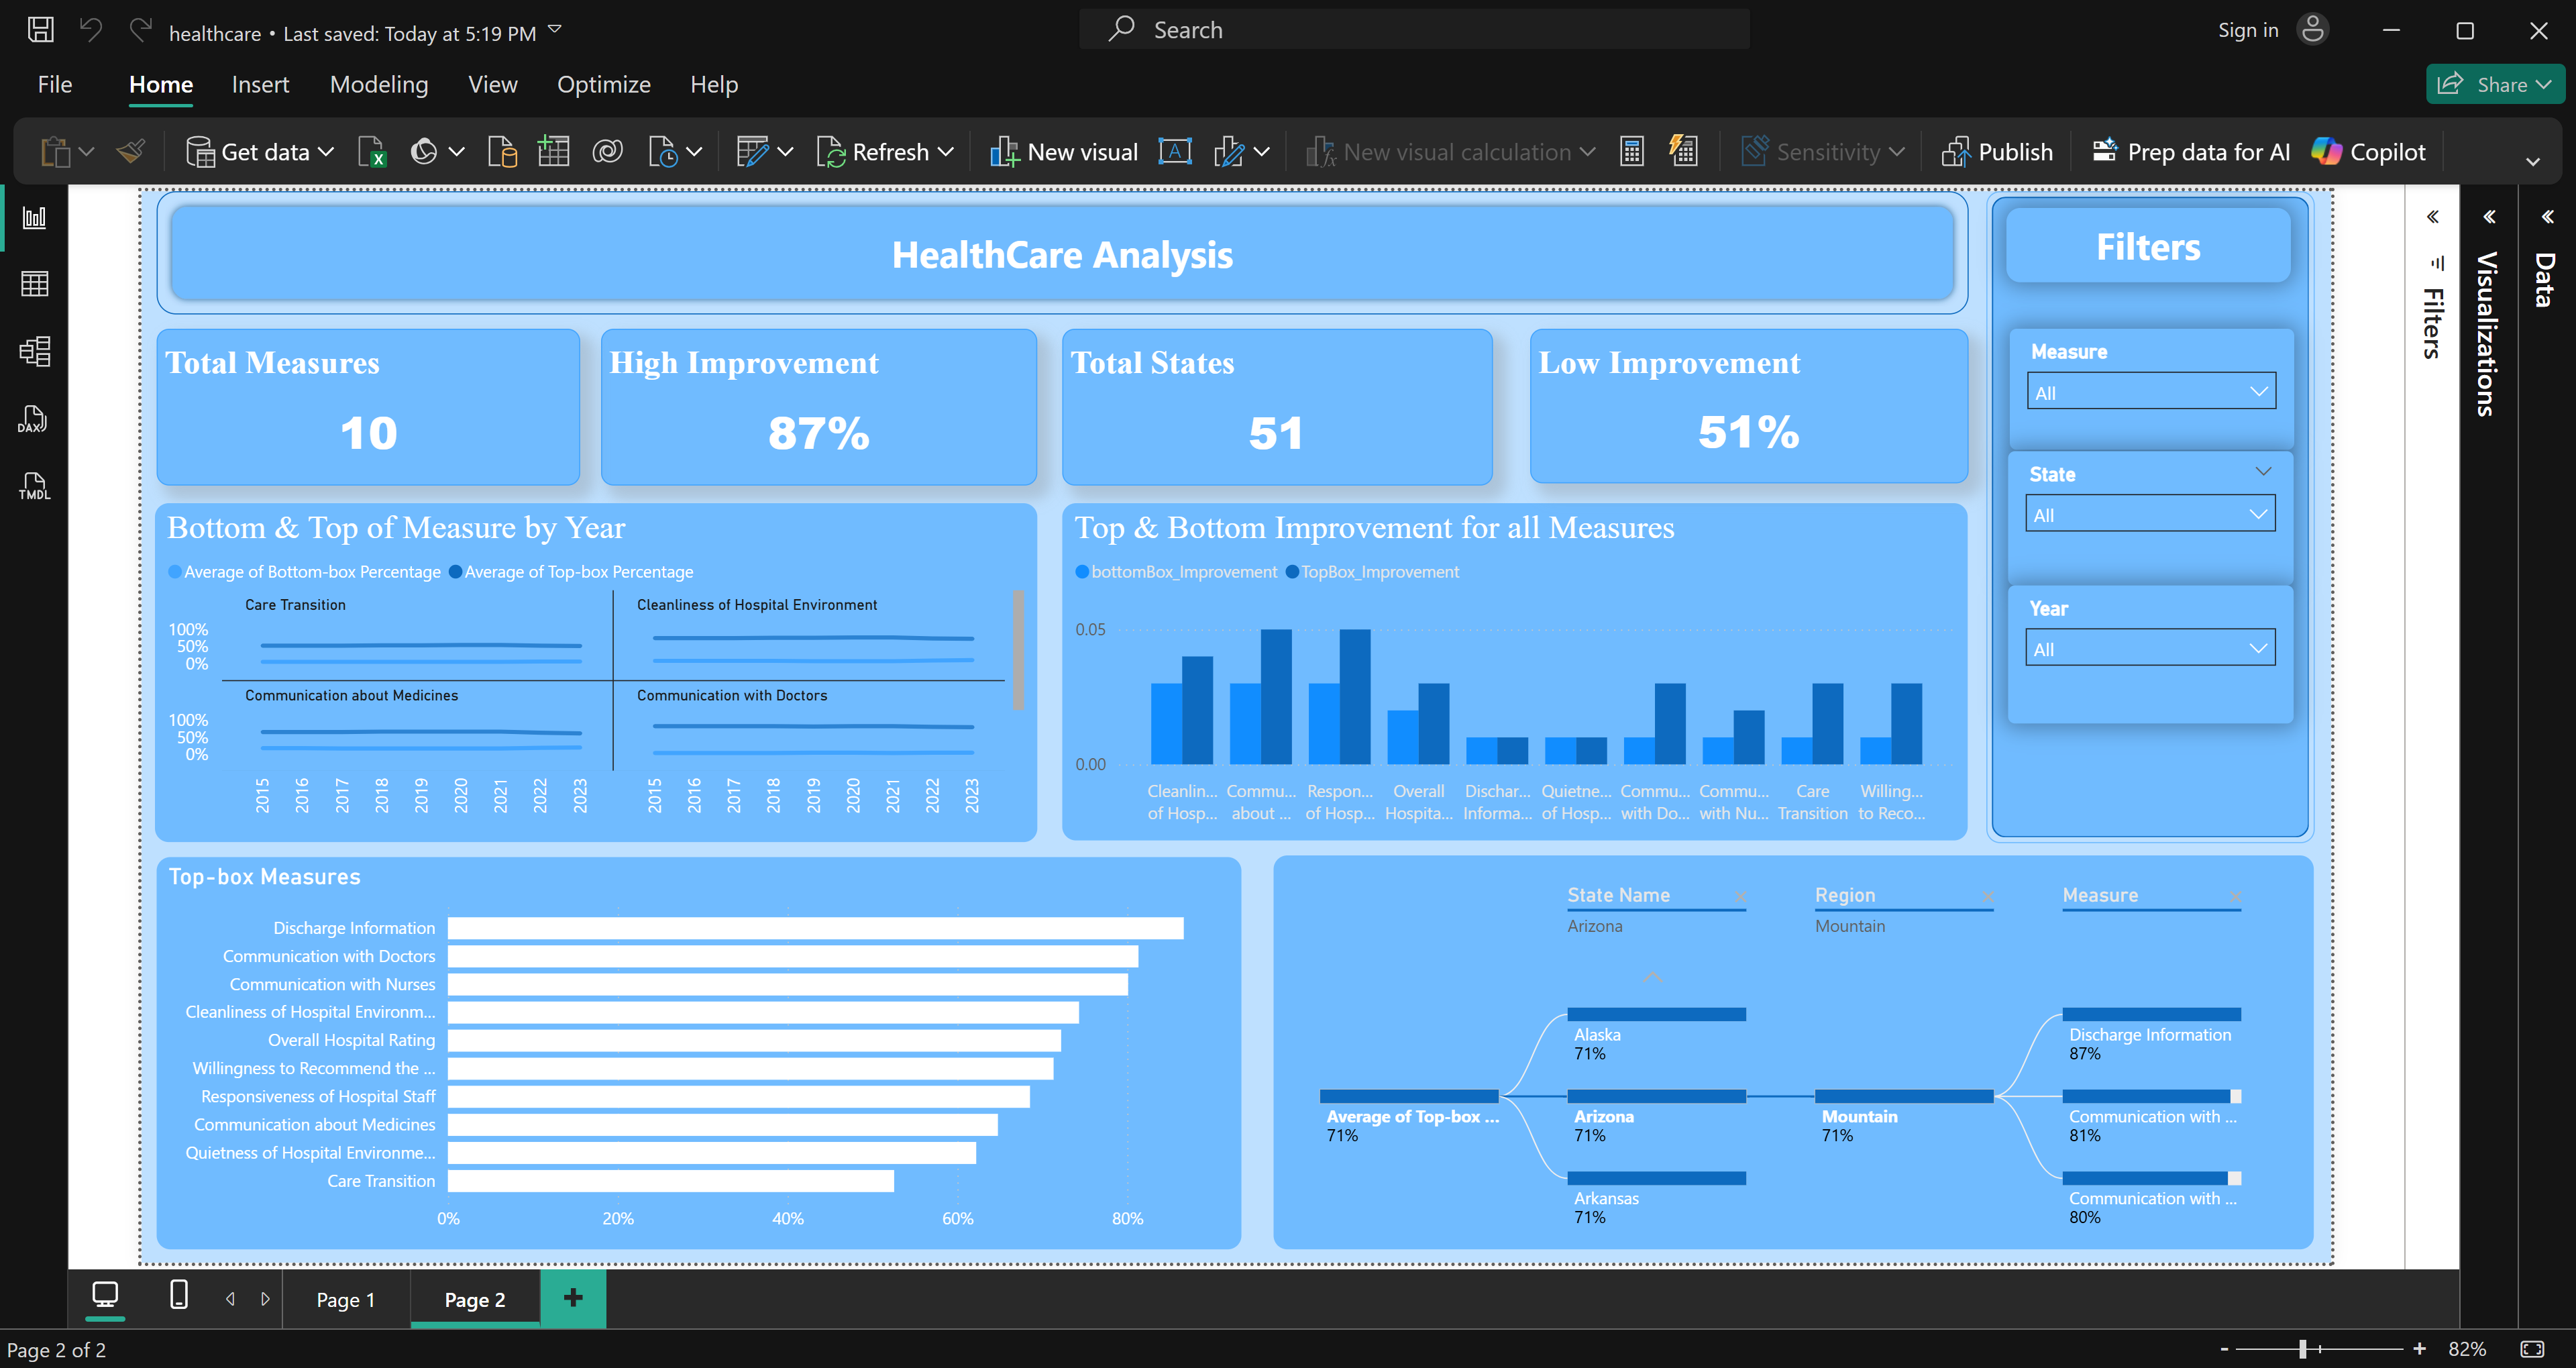

The page's visual inventory and layout, read from the dashboard file:
{"tool":"powerbi","page":{"name":"Page 2","canvas":[1592,779],"ordinal":1},"visuals":[{"type":"shape","box":[10.7,0,1317.6,89.7],"z":0},{"type":"card","title":"High Improvement","fields":{"Values":["Max(national_result.Top-box Percentage)"]},"box":[334.7,100.4,317.3,113.8],"z":1000},{"type":"card","title":"Total States","fields":{"Values":["state_results.Total States"]},"box":[669.5,100.4,313.3,113.8],"z":2000},{"type":"card","title":"Total Measures","fields":{"Values":["Count(measures_table.Measure)"]},"box":[10.7,100.4,308,113.8],"z":3000},{"type":"lineChart","title":" Bottom & Top of  Measure by Year","fields":{"Rows":["measures_table.Measure"],"Category":["national_result.Year"],"Y":["Avg(national_result.Bottom-box Percentage)","Avg(national_result.Top-box Percentage)"]},"box":[10.3,227.1,641.6,246.4],"z":4000},{"type":"clusteredBarChart","title":"Top-box Measures ","fields":{"Category":["measures_table.Measure"],"Y":["Avg(national_result.Top-box Percentage)"]},"box":[10.7,484.7,788.7,285.2],"z":5000},{"type":"decompositionTreeVisual","fields":{"Analyze":["Avg(national_result.Top-box Percentage)"],"ExplainBy":["states.State Name","states.Region","measures_table.Measure"]},"box":[823.5,483.4,756.5,286.5],"z":6000},{"type":"clusteredColumnChart","title":"Top & Bottom Improvement for all Measures","fields":{"Y":["national_result.bottomBox_Improvement","national_result.TopBox_Improvement"],"Category":["measures_table.Measure"]},"box":[669.9,227.1,658.3,245.1],"z":7000},{"type":"shape","box":[1341.4,0,238.8,473.9],"z":8000},{"type":"textbox","box":[1356.1,12.2,206.9,53.9],"z":9000},{"type":"slicer","title":"Measure","fields":{"Values":["measures_table.Measure"]},"box":[1358,100.5,206.8,87.8],"z":10000},{"type":"slicer","title":"Measure","fields":{"Values":["states.State Name"]},"box":[1357.7,188.8,207.5,97.7],"z":11000},{"type":"slicer","title":"Measure","fields":{"Values":["national_result.Year"]},"box":[1357.7,286.5,207.5,100.4],"z":12000},{"type":"card","title":"Low Improvement","fields":{"Values":["Min(national_result.Top-box Percentage)"]},"box":[1009.6,100.4,318.7,112.5],"z":13000}]}

Visuals, with their boxes on the page's 1592x779 design canvas (x1, y1, x2, y2). These are canvas units, not pixel positions in the 2576x1368 screenshot, which may show the page scaled, cropped or inside an application window:
shape: locate(11, 0, 1328, 90)
"High Improvement" card: locate(335, 100, 652, 214)
"Total States" card: locate(670, 100, 983, 214)
"Total Measures" card: locate(11, 100, 319, 214)
" Bottom & Top of  Measure by Year" lineChart: locate(10, 227, 652, 474)
"Top-box Measures " clusteredBarChart: locate(11, 485, 799, 770)
decompositionTreeVisual - Avg(national_result.Top-box Percentage) x states.State Name: locate(824, 483, 1580, 770)
"Top & Bottom Improvement for all Measures" clusteredColumnChart: locate(670, 227, 1328, 472)
shape: locate(1341, 0, 1580, 474)
textbox: locate(1356, 12, 1563, 66)
"Measure" slicer: locate(1358, 100, 1565, 188)
"Measure" slicer: locate(1358, 189, 1565, 286)
"Measure" slicer: locate(1358, 286, 1565, 387)
"Low Improvement" card: locate(1010, 100, 1328, 213)
